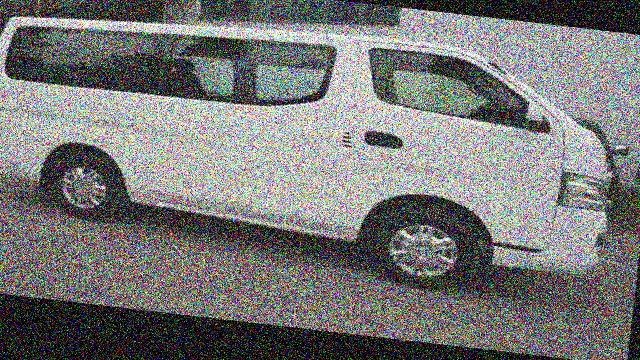van: (0, 0, 631, 304)
